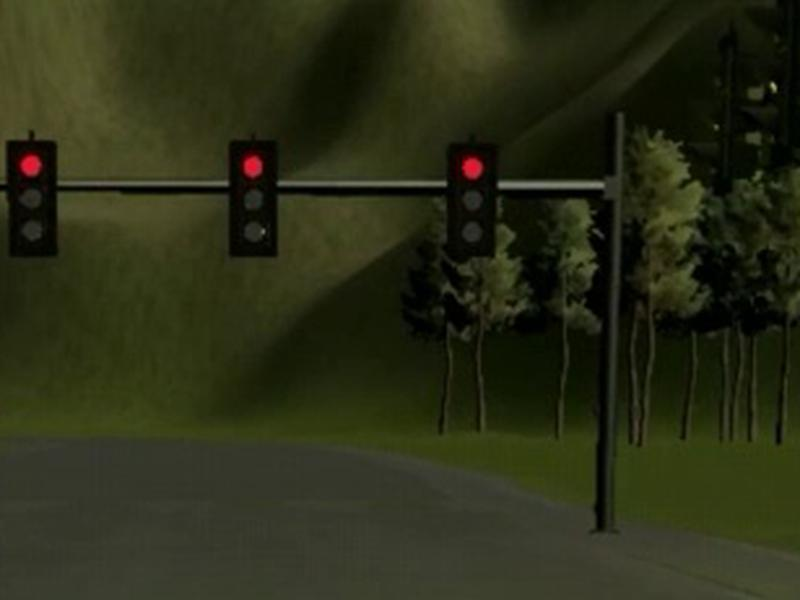Red: (6, 139, 59, 261), (229, 140, 279, 257), (446, 141, 496, 258)
